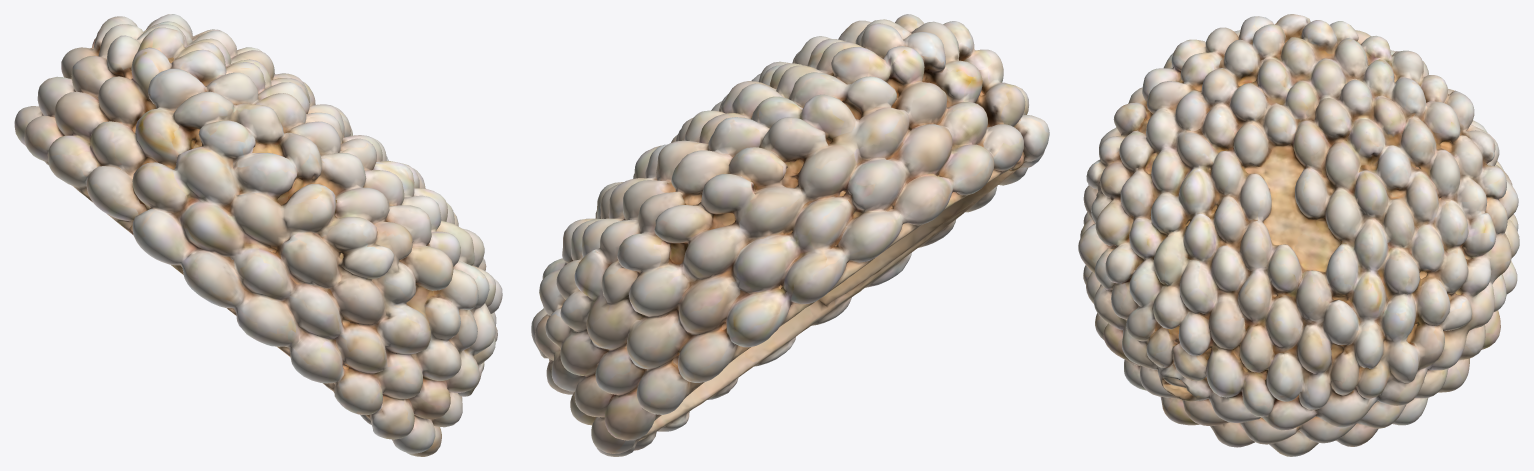
Rendered from canasta.glb.
3 views of the same model, side by side, from view 1: azimuth 30°, elevation 25°; view 2: azimuth 150°, elevation 25°; view 3: azimuth 270°, elevation 25° (orthographic). The views are drawn at different scales.
Size of the model in its own units: 0.1411 by 0.1434 by 0.163.
Materials: 1 (1 with a texture image).
